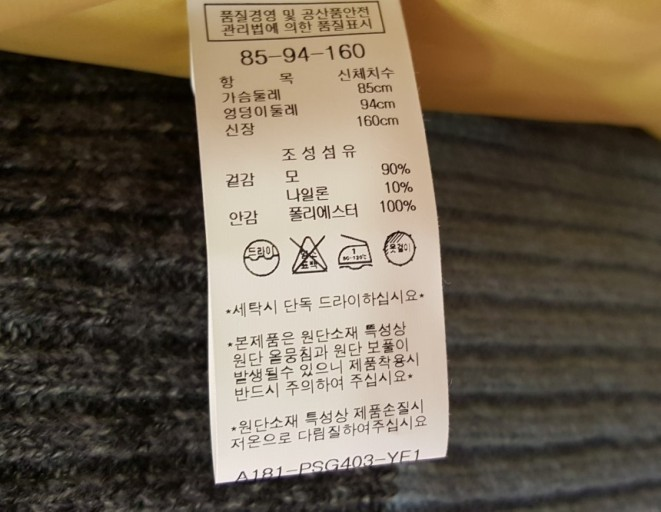KR_dry_clean: (239, 236, 282, 280)
KR_flat_dry_in_shade: (382, 226, 417, 268)
KR_iron_low_temp_with_cloth: (335, 232, 373, 273)
KR_no_chlorine_bleach: (289, 233, 329, 277)
